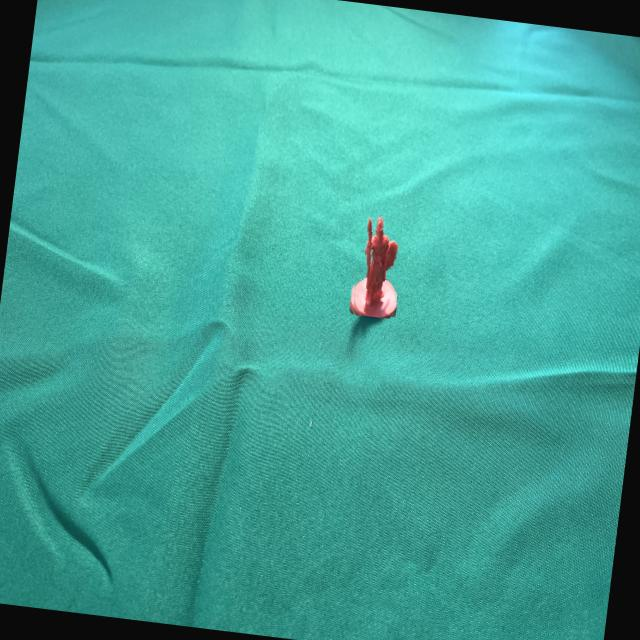amon_follower: (353, 216, 397, 317)
